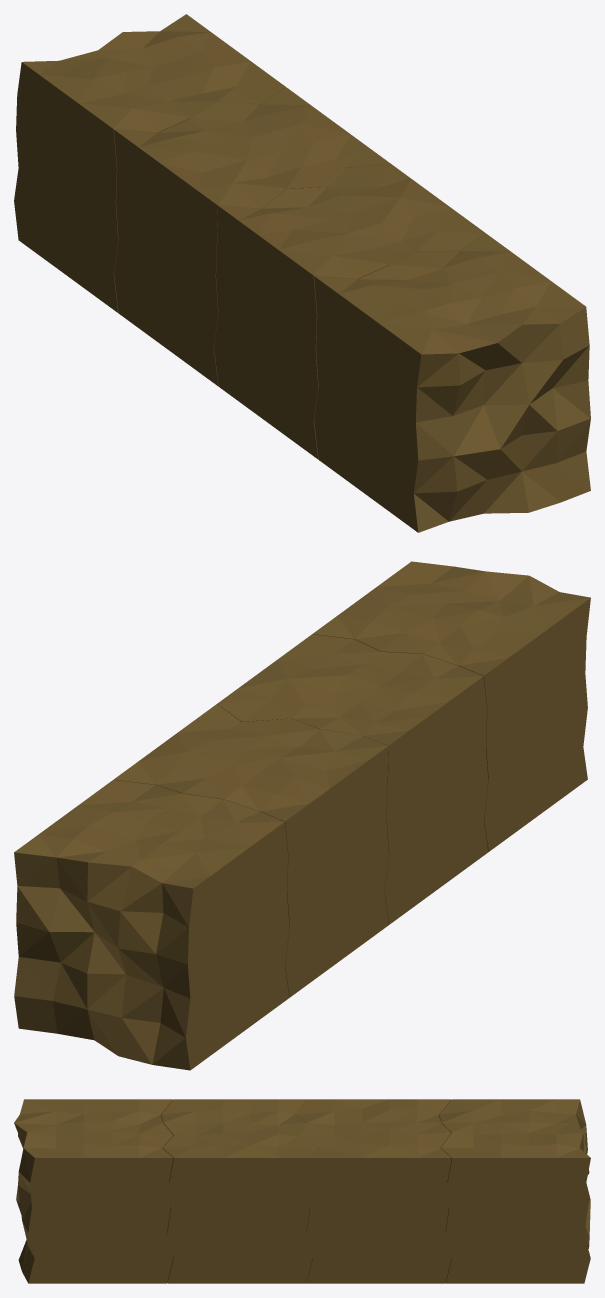
The model's file is SM_path_3_DE.fbx.
3 renders of one model, top to bottom at view 1: azimuth 30°, elevation 25°; view 2: azimuth 150°, elevation 25°; view 3: azimuth 270°, elevation 25°, orthographic. The views are drawn at different scales.
Visible parts, largest first — view 1: SM_path3_1_DE, SM_path3_rightmid_DE, SM_path3_leftmid_DE, SM_path3_2_DE; view 2: SM_path3_2_DE, SM_path3_1_DE, SM_path3_leftmid_DE, SM_path3_rightmid_DE; view 3: SM_path3_1_DE, SM_path3_2_DE, SM_path3_rightmid_DE, SM_path3_leftmid_DE.
Boxes of the visible parts, x1,y1,x2,y2 form: SM_path3_1_DE: (314,234,590,532); SM_path3_rightmid_DE: (114,87,390,386); SM_path3_leftmid_DE: (214,163,485,459); SM_path3_2_DE: (14,14,285,313); SM_path3_2_DE: (14,780,289,1070); SM_path3_1_DE: (312,561,590,851); SM_path3_leftmid_DE: (217,634,488,924); SM_path3_rightmid_DE: (113,704,388,997); SM_path3_1_DE: (14,1099,173,1283); SM_path3_2_DE: (439,1099,590,1283); SM_path3_rightmid_DE: (294,1099,451,1283); SM_path3_leftmid_DE: (161,1099,319,1283).
Size of the model in its own units: 120 by 500 by 122.
